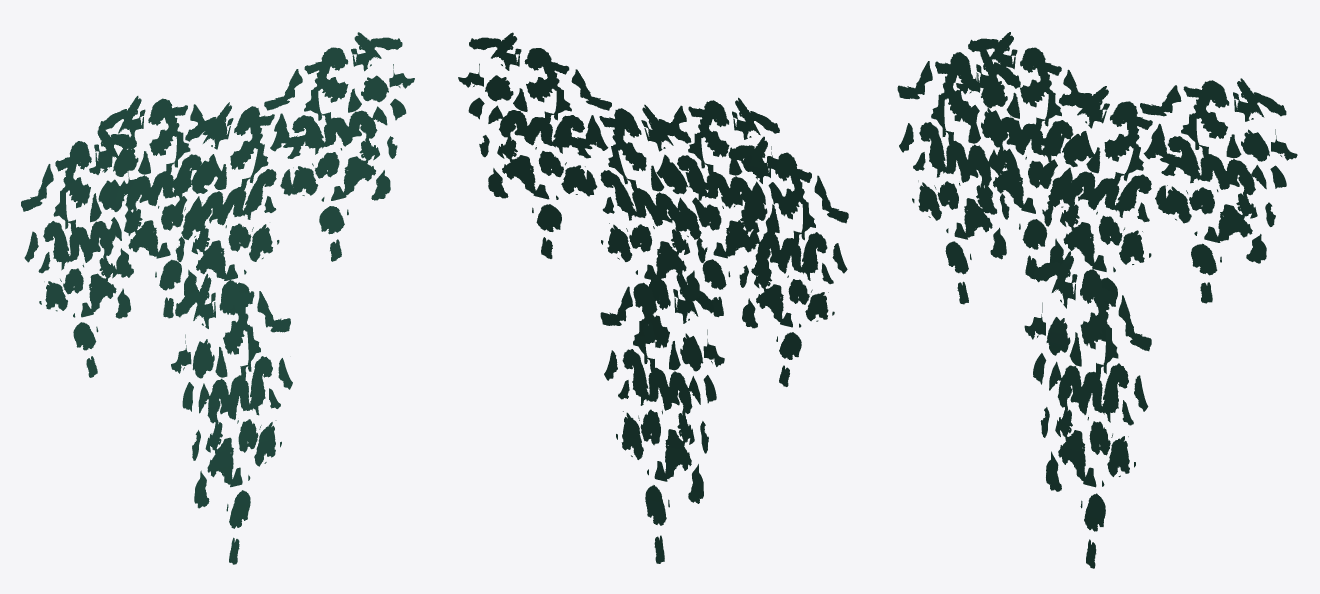
File: SM_IvyDown_Wall_01.fbx
3 views of the same model, side by side, from view 1: azimuth 30°, elevation 25°; view 2: azimuth 150°, elevation 25°; view 3: azimuth 330°, elevation 25° (orthographic). The views are drawn at different scales.
Parts seen in each view (by area): view 1: SM_IvyDown_Wall_01; view 2: SM_IvyDown_Wall_01; view 3: SM_IvyDown_Wall_01.
Boxes of the visible parts, box(x1,y1,x2,y2) form: SM_IvyDown_Wall_01: box(21, 32, 414, 564); SM_IvyDown_Wall_01: box(458, 32, 848, 563); SM_IvyDown_Wall_01: box(897, 32, 1297, 568).
Size of the model in its own units: 218 by 261 by 17.8.
